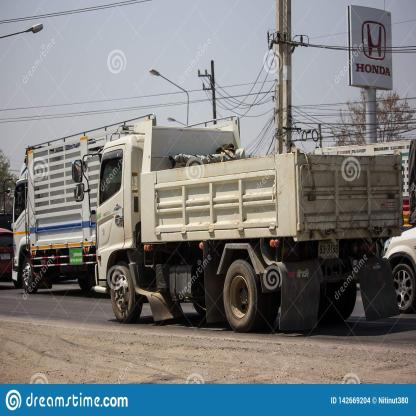dump_truck: (74, 111, 402, 348), (7, 120, 174, 314)
